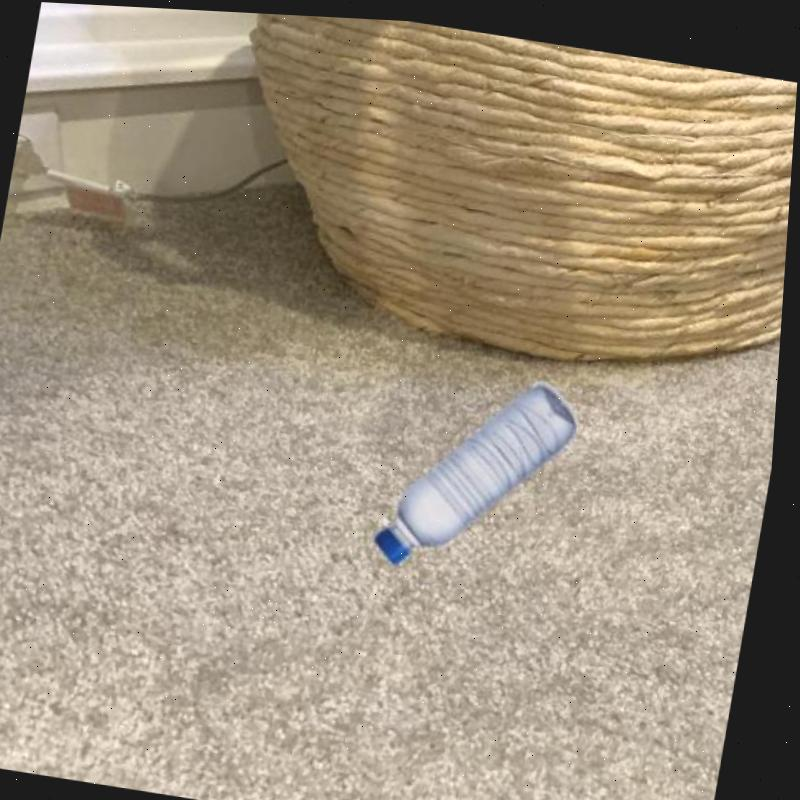botella: (375, 355, 588, 583)
